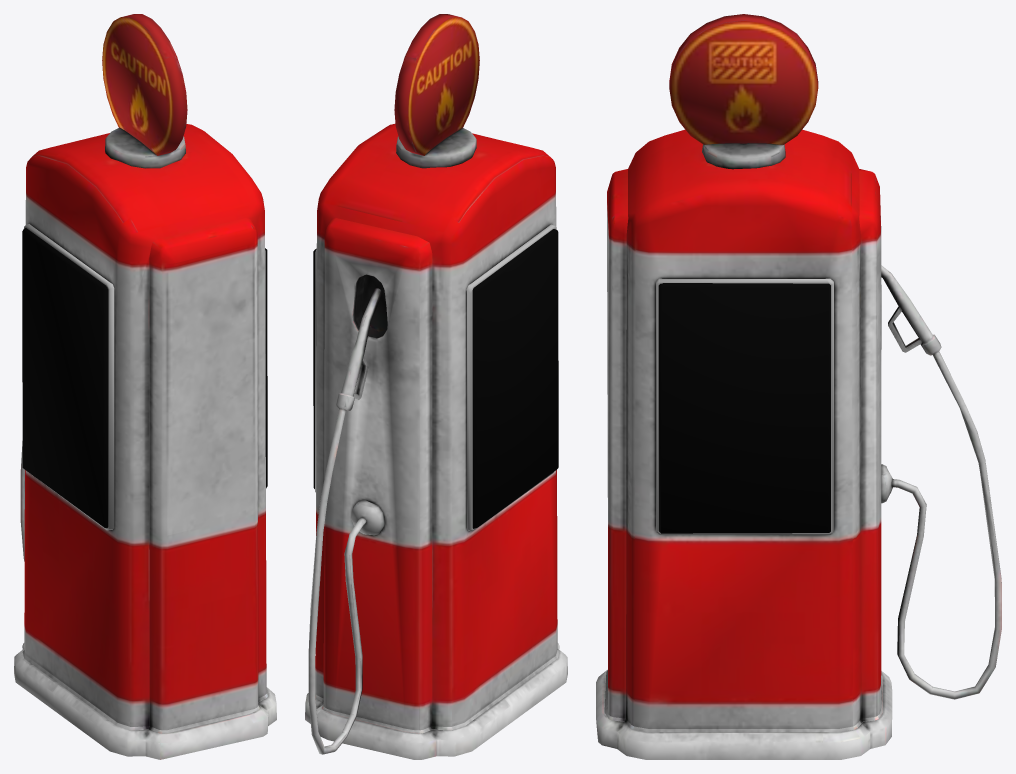
Rendered from fuel-dispenser.lod0.glb.
The picture shows the model from 3 angles, left to right: view 1: azimuth 30°, elevation 25°; view 2: azimuth 150°, elevation 25°; view 3: azimuth 270°, elevation 25°; orthographic projection. The views are drawn at different scales.
Visible parts, largest first — view 1: defaultMaterial (×2); view 2: defaultMaterial (×2); view 3: defaultMaterial (×2).
Boxes of the visible parts, x1,y1,x2,y2 form: defaultMaterial (×2): (14, 14, 276, 759); defaultMaterial (×2): (305, 14, 567, 759); defaultMaterial (×2): (596, 14, 1001, 759).
Bounding box in the file's own units: 0.5917 × 2.3 × 1.21.
2 materials, 1 textured.
